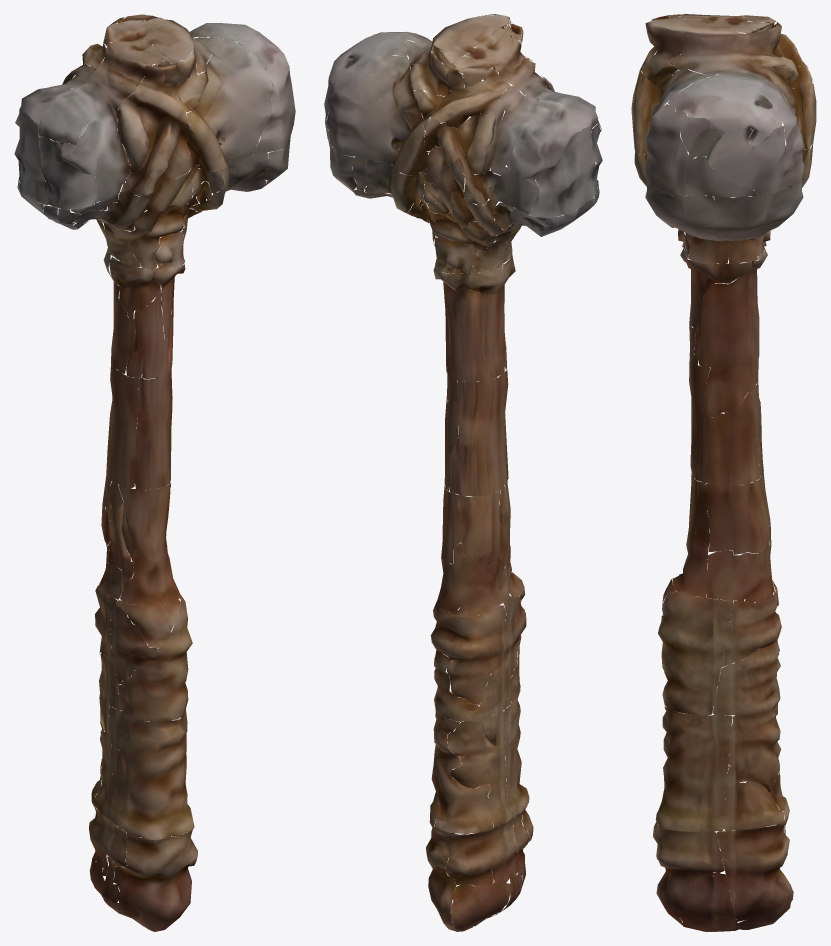
File: hammer0.glb
3 renders of one model, left to right at view 1: azimuth 30°, elevation 25°; view 2: azimuth 150°, elevation 25°; view 3: azimuth 270°, elevation 25°, orthographic. The views are drawn at different scales.
Visible parts, largest first — view 1: hammer0; view 2: hammer0; view 3: hammer0.
Part boxes in pixels (<box>): hammer0: <box>14,14,295,931</box>; hammer0: <box>324,14,602,931</box>; hammer0: <box>631,14,816,931</box>.
Size of the model in its own units: 0.2879 by 0.9998 by 0.1832.
Materials: 1 (1 with a texture image).
